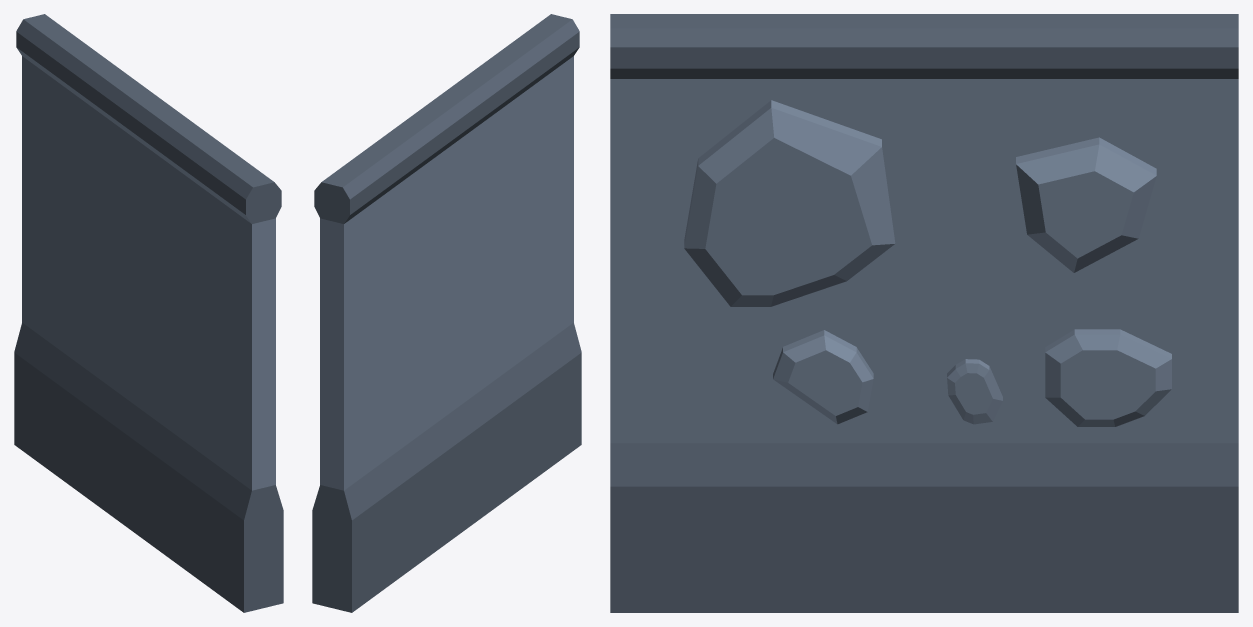
The model's file is WallPlain02.fbx.
The picture shows the model from 3 angles, left to right: view 1: azimuth 30°, elevation 25°; view 2: azimuth 150°, elevation 25°; view 3: azimuth 270°, elevation 25°; orthographic projection. The views are drawn at different scales.
Parts seen in each view (by area): view 1: Plane.004; view 2: Plane.004; view 3: Plane.004.
Boxes of the visible parts, left/top/right/bottom form: Plane.004: left=14, top=14, right=283, bottom=612; Plane.004: left=312, top=14, right=581, bottom=612; Plane.004: left=610, top=14, right=1238, bottom=612.
Size of the model in its own units: 111 by 813 by 800.
Materials: 1 (1 with a texture image).
